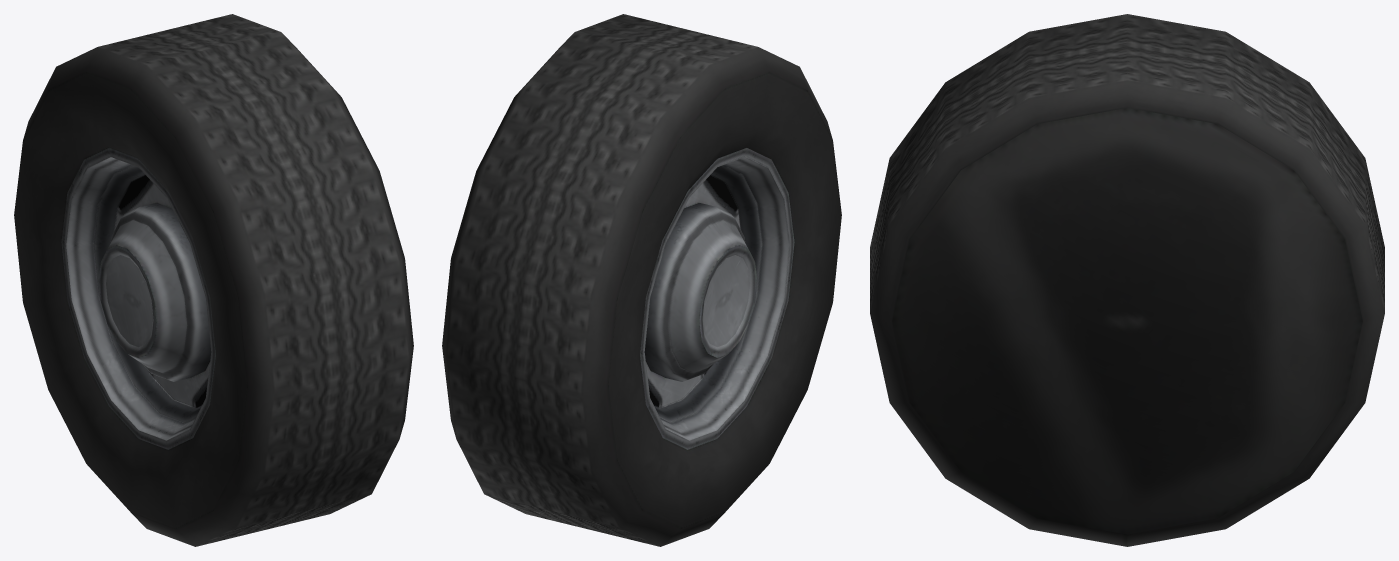
The model's file is Vehicle_CapriceWheel3_LeftWheel.fbx.
The picture shows the model from 3 angles, left to right: view 1: azimuth 30°, elevation 25°; view 2: azimuth 150°, elevation 25°; view 3: azimuth 270°, elevation 25°; orthographic projection.
Visible parts, largest first — view 1: NewTireCaprice2; view 2: NewTireCaprice2; view 3: NewTireCaprice2.
Boxes of the visible parts, box(x1,y1,x2,y2) form: NewTireCaprice2: box(14, 14, 413, 546); NewTireCaprice2: box(442, 14, 841, 546); NewTireCaprice2: box(870, 14, 1384, 546).
Bounding box in the file's own units: 0.426 × 1.11 × 1.11.
